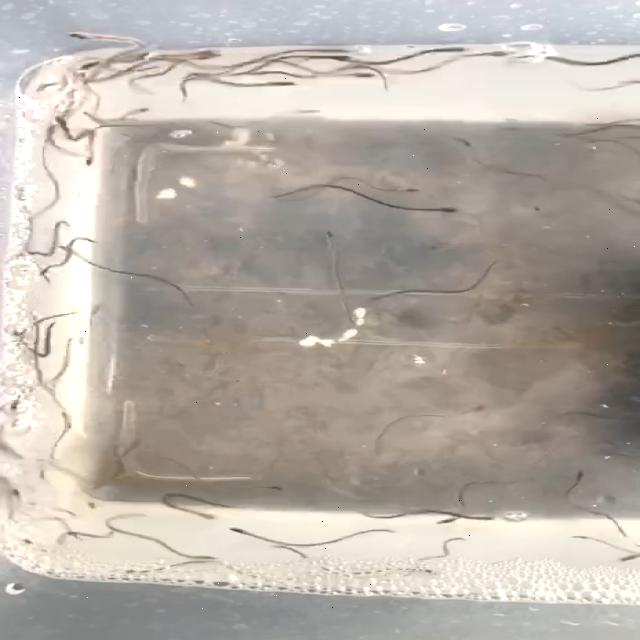inactive_glass_eel: (44, 28, 100, 44), (426, 511, 474, 527), (49, 526, 88, 544), (177, 546, 215, 564), (309, 51, 371, 62), (470, 48, 516, 62), (66, 60, 108, 74), (428, 200, 470, 214), (244, 484, 289, 497), (114, 105, 150, 121), (447, 134, 479, 152), (411, 564, 447, 580), (339, 70, 378, 84), (163, 46, 217, 56), (3, 392, 30, 412), (50, 116, 76, 136), (225, 526, 262, 540), (188, 505, 220, 521), (59, 412, 82, 434), (436, 41, 472, 55), (38, 125, 62, 146), (450, 404, 486, 418), (11, 528, 38, 546), (80, 145, 100, 169), (79, 490, 103, 510), (614, 546, 640, 564), (384, 187, 432, 196), (560, 532, 596, 544), (254, 81, 296, 91), (364, 290, 399, 302), (184, 53, 222, 64), (5, 486, 28, 504), (464, 513, 498, 525), (56, 244, 80, 258), (322, 230, 344, 244), (568, 468, 590, 482)
